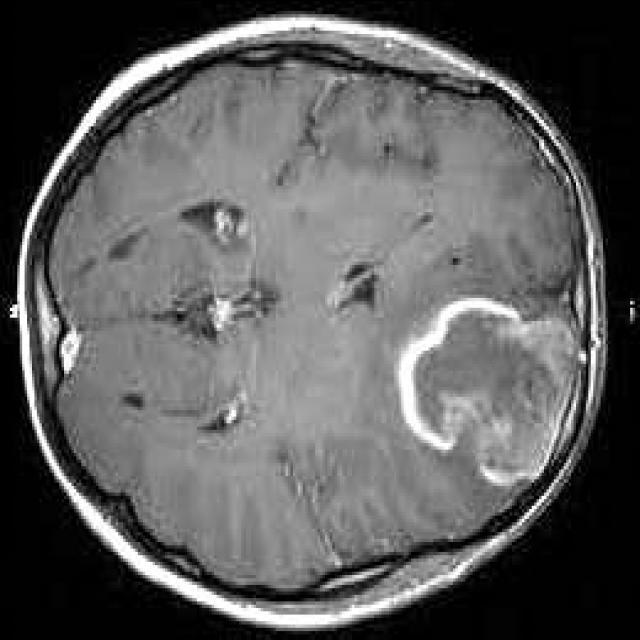tumor: (396, 297, 581, 488)
